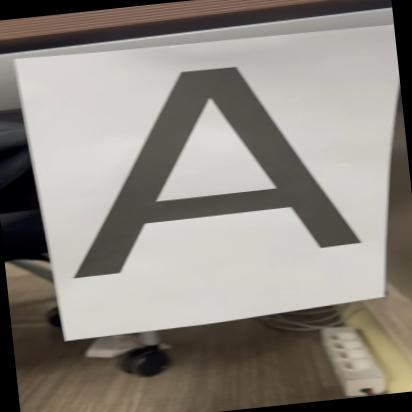seat: (47, 48, 372, 288)
